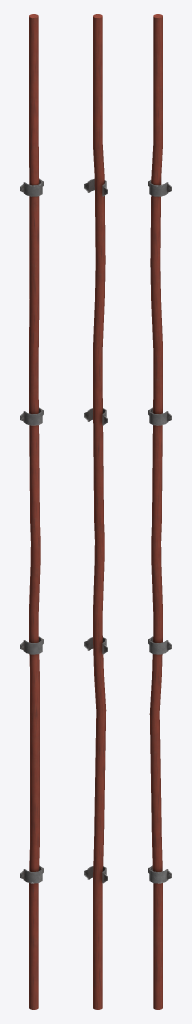
File: Cables01_03.glb
3 renders of one model, left to right at view 1: azimuth 30°, elevation 25°; view 2: azimuth 150°, elevation 25°; view 3: azimuth 330°, elevation 25°, orthographic.
Visible parts, largest first — view 1: Circle_004; view 2: Circle_004; view 3: Circle_004.
Boxes of the visible parts, left/top/right/bottom form: Circle_004: left=20, top=14, right=43, bottom=1009; Circle_004: left=84, top=14, right=107, bottom=1009; Circle_004: left=148, top=14, right=171, bottom=1009.
Size of the model in its own units: 0.0668 by 2.7 by 0.0361.
Materials: 1 (1 with a texture image).
